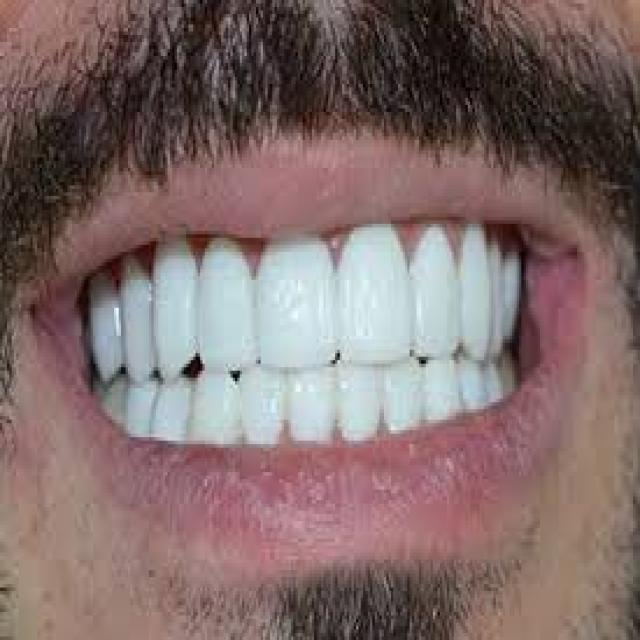tooth: (256, 241, 342, 364), (338, 224, 410, 357), (200, 238, 256, 367), (414, 227, 456, 364), (84, 266, 130, 378), (154, 245, 196, 364), (186, 367, 247, 444), (458, 220, 489, 368), (284, 364, 337, 441), (123, 269, 156, 378), (482, 234, 507, 360), (242, 367, 284, 441), (338, 364, 380, 437), (386, 360, 426, 430), (498, 252, 526, 339), (424, 360, 463, 416), (154, 385, 190, 437), (123, 378, 154, 437), (460, 367, 502, 409), (484, 360, 519, 402), (498, 349, 526, 392), (102, 371, 124, 416)
